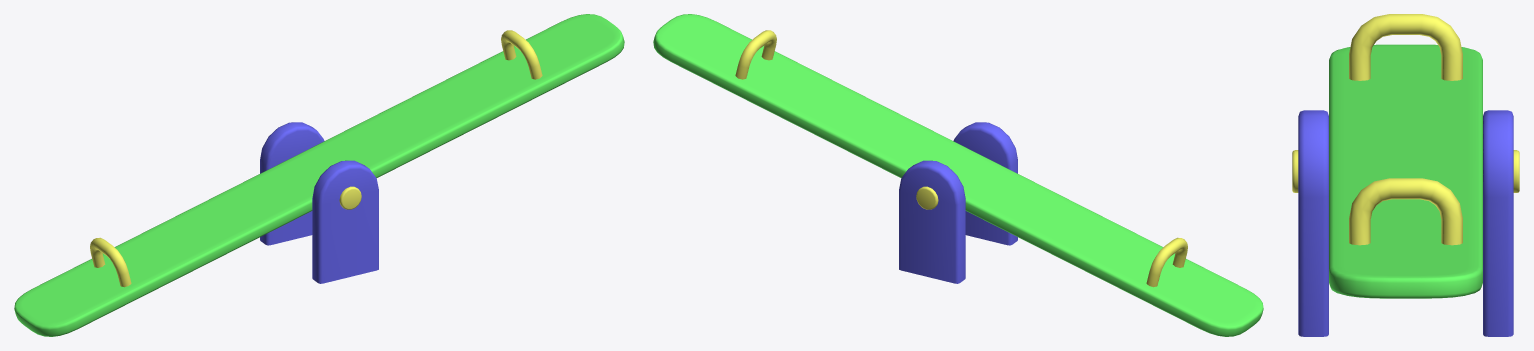
File: SM_Gangorra.fbx
3 views of the same model, side by side, from view 1: azimuth 30°, elevation 25°; view 2: azimuth 150°, elevation 25°; view 3: azimuth 270°, elevation 25° (orthographic). The views are drawn at different scales.
Parts seen in each view (by area): view 1: Plane006, Cylinder007; view 2: Plane006, Cylinder007; view 3: Plane006, Cylinder007.
Boxes of the visible parts, <box> form: Plane006: <box>14,14,624,336</box>; Cylinder007: <box>260,122,378,283</box>; Plane006: <box>653,14,1263,336</box>; Cylinder007: <box>899,122,1017,283</box>; Plane006: <box>1329,14,1482,298</box>; Cylinder007: <box>1292,110,1519,336</box>.
Bounding box in the file's own units: 243 × 68.47 × 46.25.
